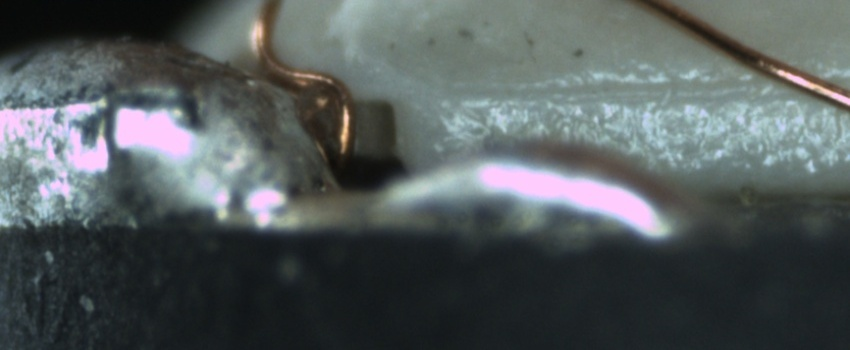DL: (454, 59, 850, 123)
